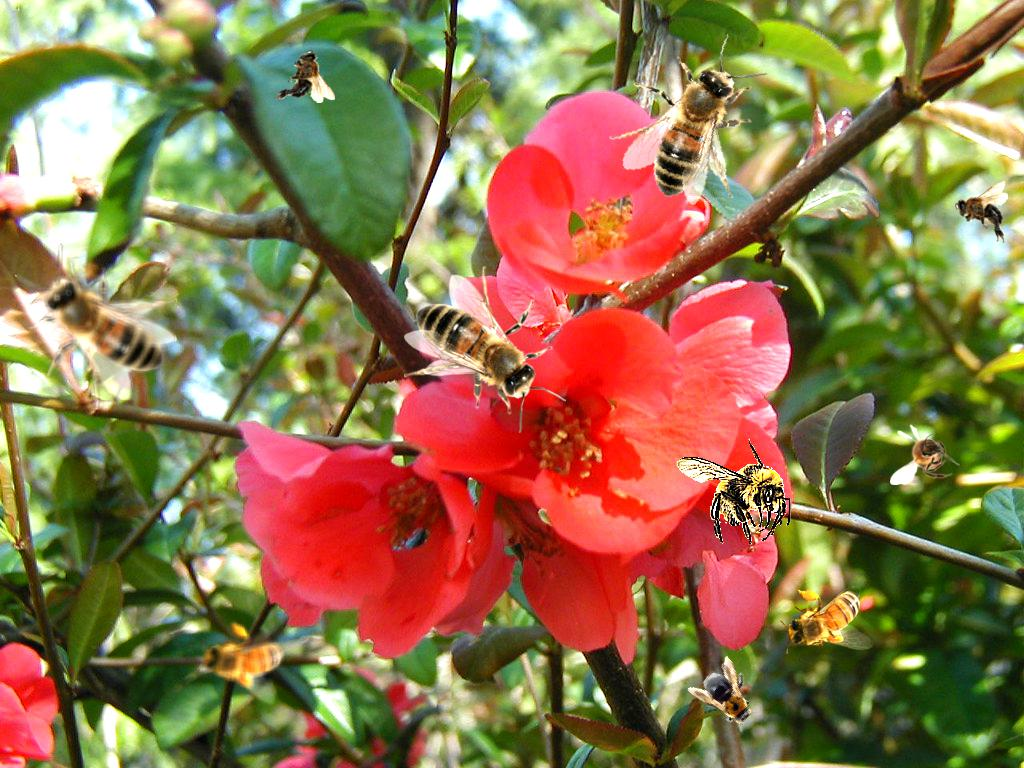Bee: (595, 28, 788, 218), (15, 243, 177, 410), (404, 266, 566, 433), (676, 438, 791, 545), (188, 609, 302, 712), (686, 654, 772, 740), (780, 586, 873, 654), (890, 424, 960, 485), (955, 181, 1008, 243), (273, 50, 335, 103)
